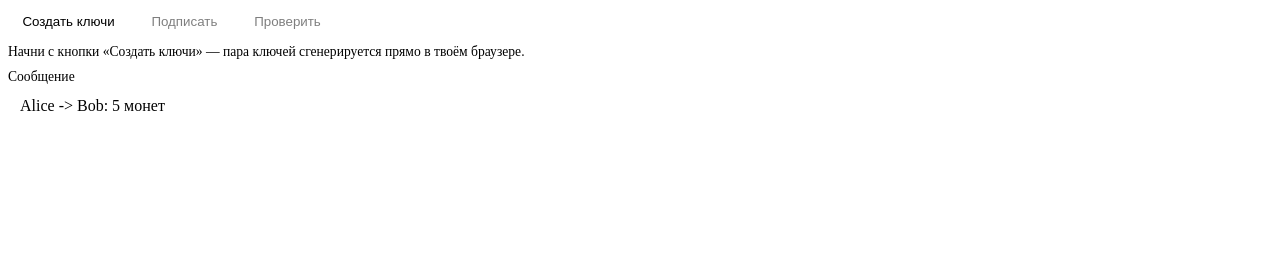
it: изменение сообщения после подписи: проверка падает с объяснением про точное содержимое
Click the button "Создать ключи".
click(68, 21)  # box left=8, top=8, right=129, bottom=34
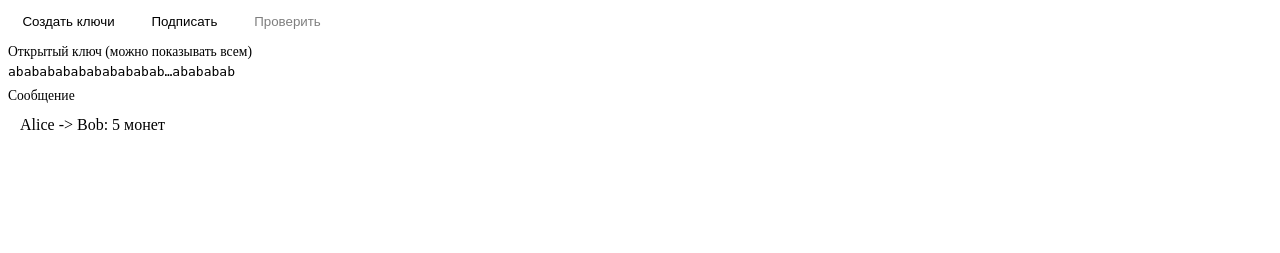
Check: the text "Открытый ключ (можно показывать всем)" is shown, box left=8, top=44, right=252, bottom=59
Click the button "Подписать".
click(184, 21)  # box left=137, top=8, right=232, bottom=34
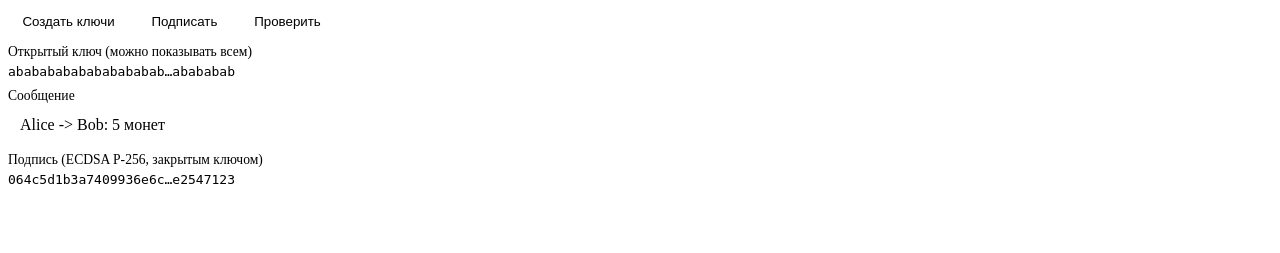
Check: the text "Подпись (ECDSA P-256, закрытым ключом)" is shown, box left=8, top=152, right=263, bottom=167
Replace the text in the field labelled "Сообщение" with "Alice -> Bob: 500 монет" at (640, 125), box left=8, top=108, right=1272, bottom=142
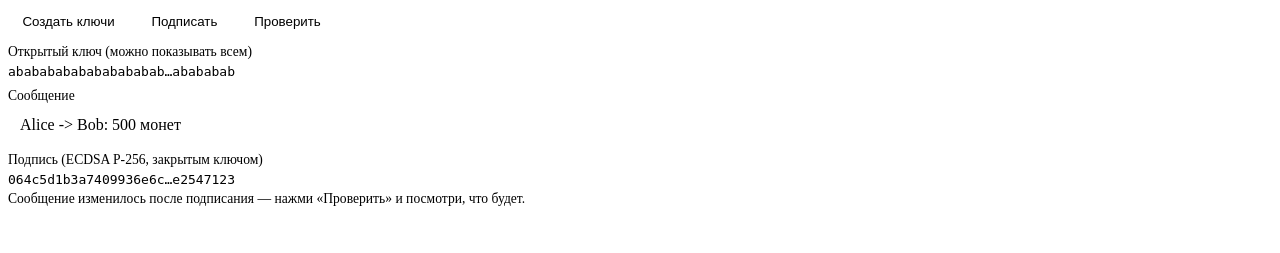
Check: the text "Сообщение изменилось после подписания" is shown, box left=8, top=191, right=525, bottom=206
Click the button "Проверить".
click(288, 21)  # box left=240, top=8, right=335, bottom=34
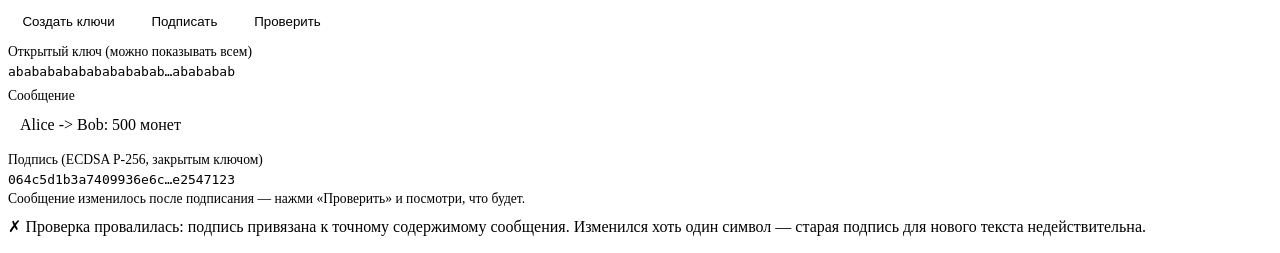
Check: the text "привязана к точному содержимому" is shown, box left=8, top=218, right=1146, bottom=235
